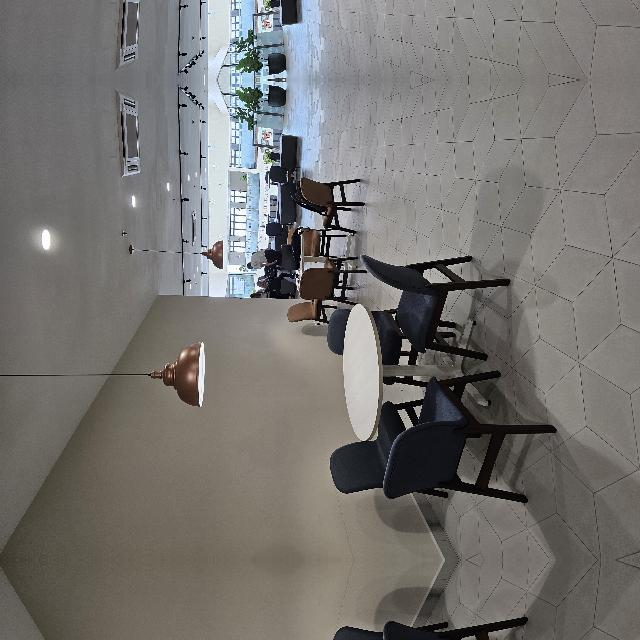obstacle: (44, 412, 304, 624), (44, 496, 303, 640), (234, 358, 388, 448)
